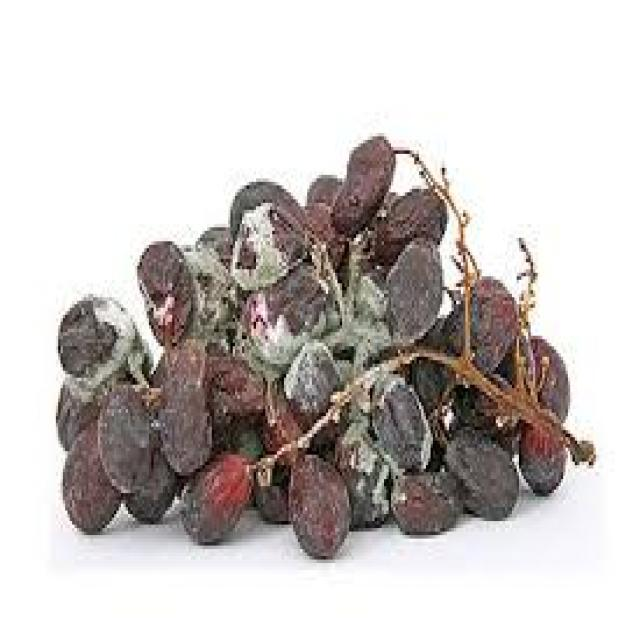organic waste: (244, 262, 326, 381), (277, 336, 349, 444), (152, 349, 216, 468), (440, 420, 517, 518), (58, 423, 121, 535), (368, 367, 430, 476), (177, 448, 251, 538), (442, 276, 512, 371), (95, 381, 156, 490), (382, 238, 438, 350), (333, 409, 386, 525), (330, 136, 391, 235), (56, 294, 133, 371), (374, 186, 444, 270), (289, 454, 349, 552), (135, 238, 193, 339), (228, 200, 303, 276), (507, 329, 568, 416), (335, 259, 389, 357), (382, 462, 461, 528), (253, 374, 310, 458), (121, 444, 182, 521), (184, 245, 235, 336), (409, 314, 454, 412), (226, 171, 298, 231), (200, 350, 258, 412), (449, 374, 510, 430), (517, 416, 561, 493), (54, 378, 107, 437), (298, 199, 342, 266), (249, 451, 291, 521), (205, 406, 268, 451), (191, 224, 237, 262), (305, 175, 340, 206), (333, 353, 358, 385)
